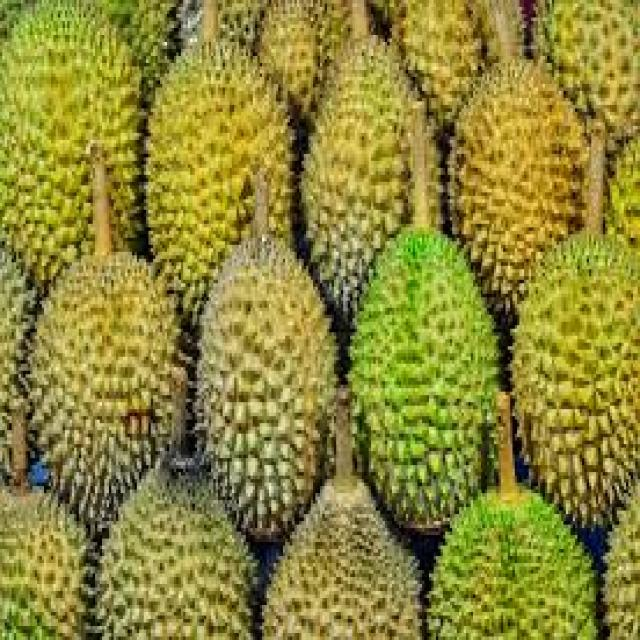immature: (351, 222, 503, 537)
mature: (31, 248, 190, 540), (147, 30, 295, 326), (202, 233, 344, 540), (302, 35, 442, 320), (451, 58, 591, 324)
